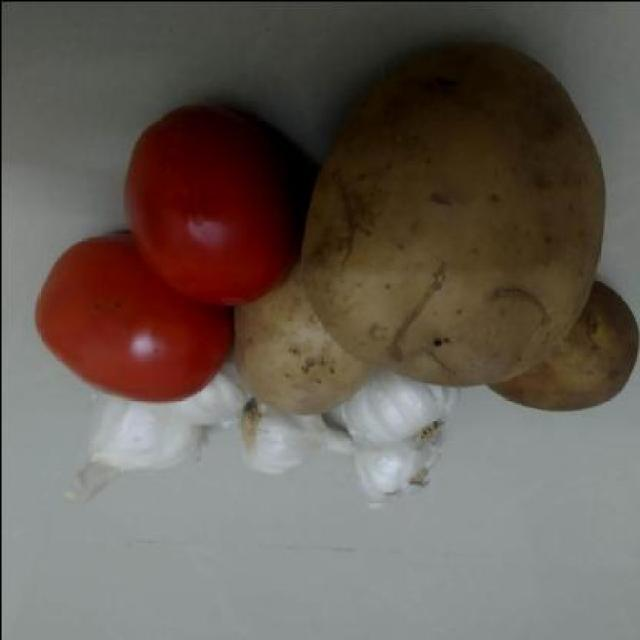Garlic: (66, 396, 209, 502), (233, 401, 344, 477), (340, 369, 451, 443)
Potato: (303, 30, 617, 388), (238, 294, 371, 411)
Tomato: (114, 78, 298, 306), (26, 231, 229, 400)
